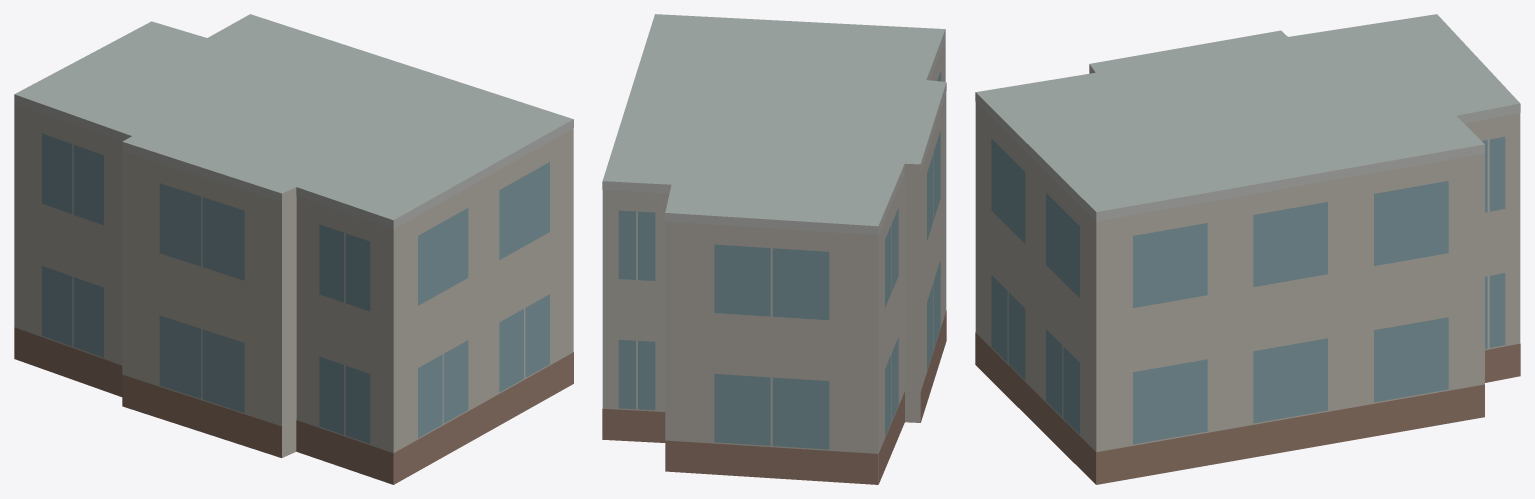
The model's file is survey-upis-32952142.glb.
3 renders of one model, left to right at view 1: azimuth 30°, elevation 25°; view 2: azimuth 150°, elevation 25°; view 3: azimuth 270°, elevation 25°, orthographic. The views are drawn at different scales.
Visible parts, largest first — view 1: survey-upis-32952142.tmp; view 2: survey-upis-32952142.tmp; view 3: survey-upis-32952142.tmp.
Boxes of the visible parts, bbox=[...] form: survey-upis-32952142.tmp: bbox=[14, 14, 573, 484]; survey-upis-32952142.tmp: bbox=[602, 14, 946, 484]; survey-upis-32952142.tmp: bbox=[975, 14, 1520, 484].
Bounding box in the file's own units: 11.23 × 7.2 × 13.05.
